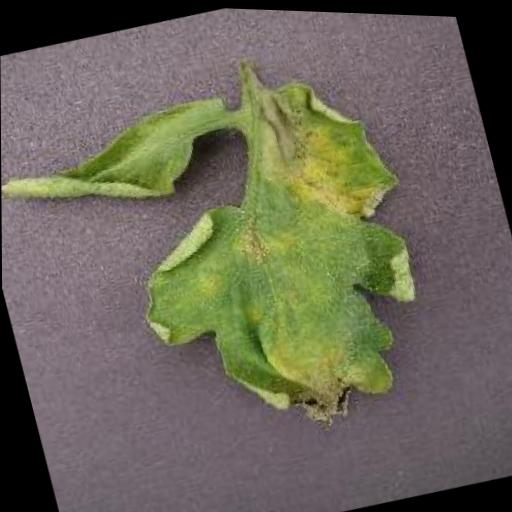Late Blight: (0, 42, 451, 489)
